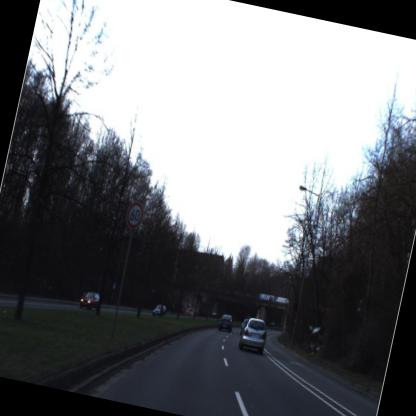prohibitory: (121, 198, 147, 232)
